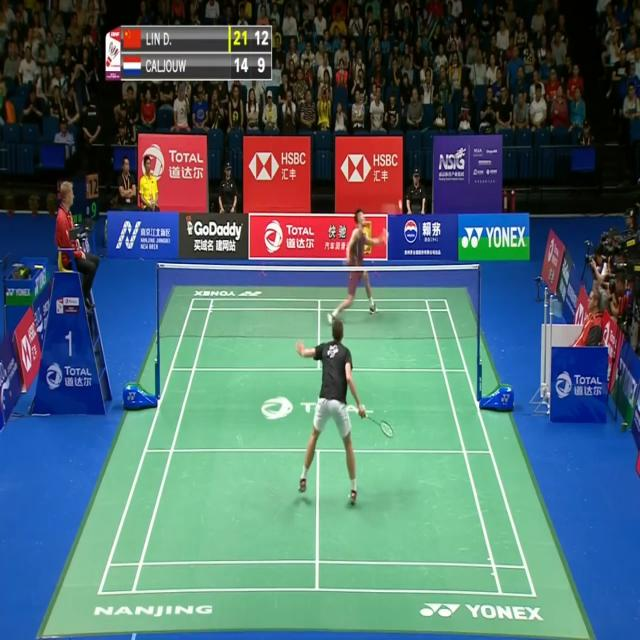Player1: (294, 311, 394, 514)
Player2: (324, 201, 386, 330)
